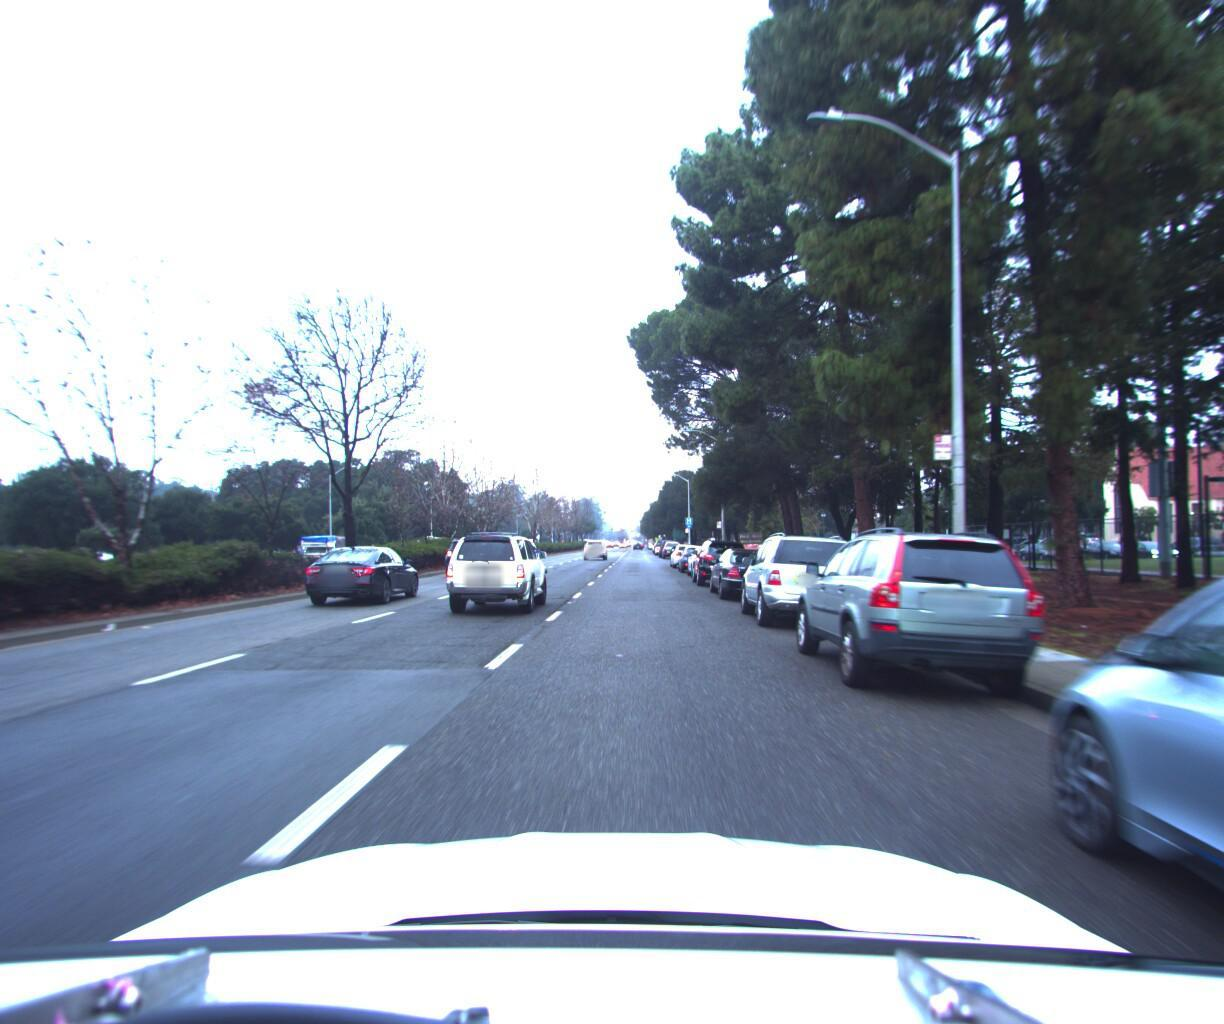car: (993, 526, 1224, 1024), (791, 520, 1040, 697), (734, 520, 868, 634), (441, 529, 550, 616), (303, 540, 425, 607), (703, 537, 794, 601), (689, 531, 754, 586), (440, 533, 499, 575), (684, 537, 732, 575), (675, 537, 716, 570), (667, 536, 705, 566), (580, 533, 607, 555), (658, 533, 681, 554)
other_vehicle: (296, 530, 352, 563), (0, 513, 11, 621)
